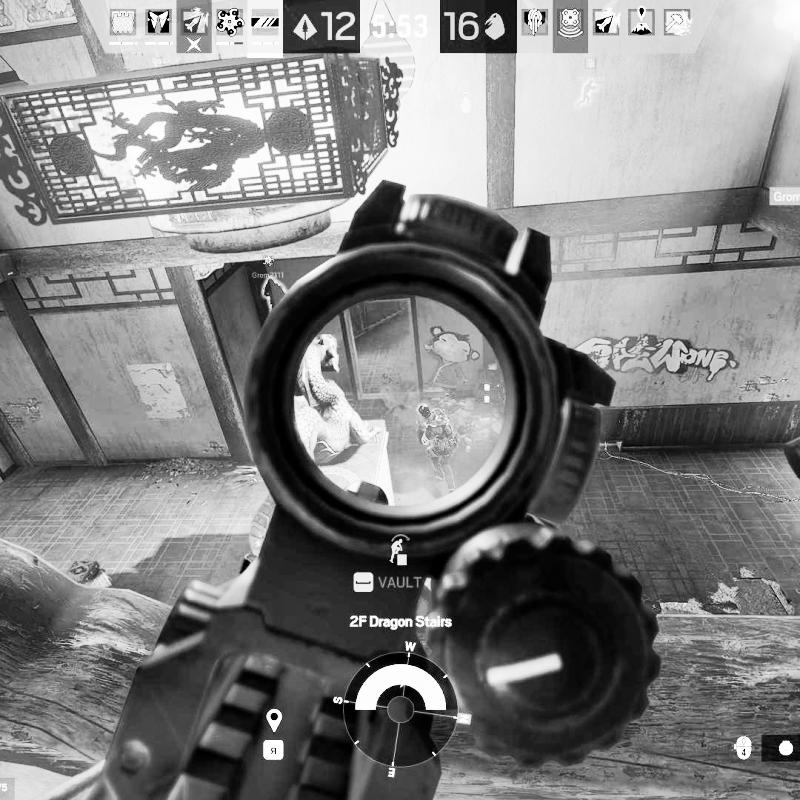Character: (416, 403, 460, 494)
Friend_label: (252, 253, 286, 280), (576, 56, 606, 83)
Head: (417, 404, 431, 419)
